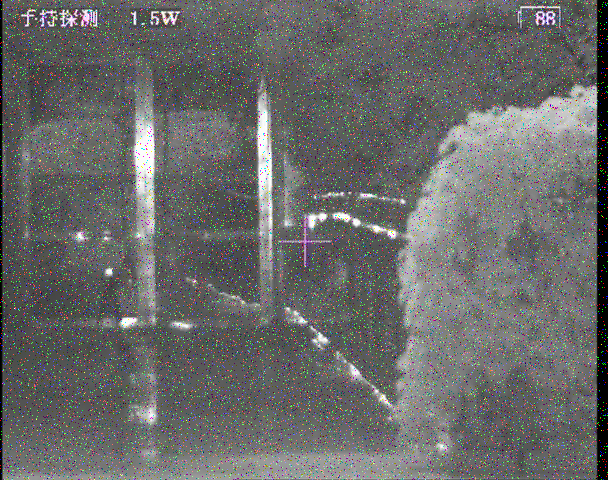my: (102, 267, 114, 277)
